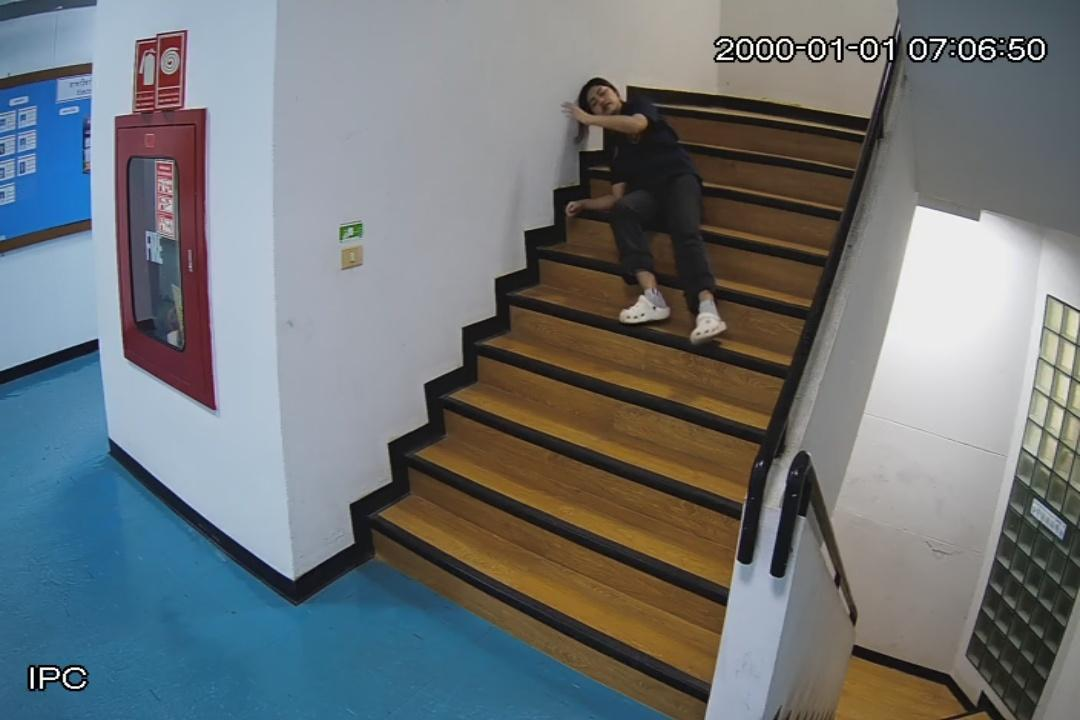fall: (563, 77, 728, 346)
